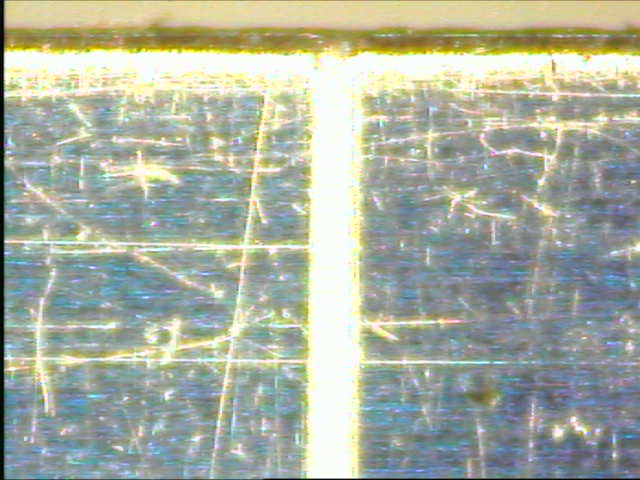line: (305, 49, 363, 480)
